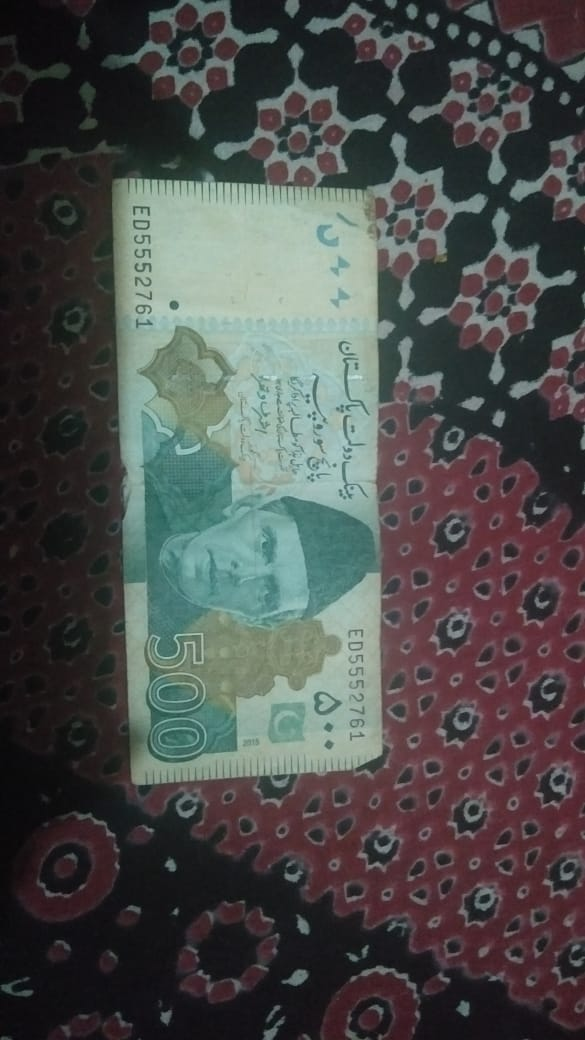500 rupee: (102, 170, 397, 805)
